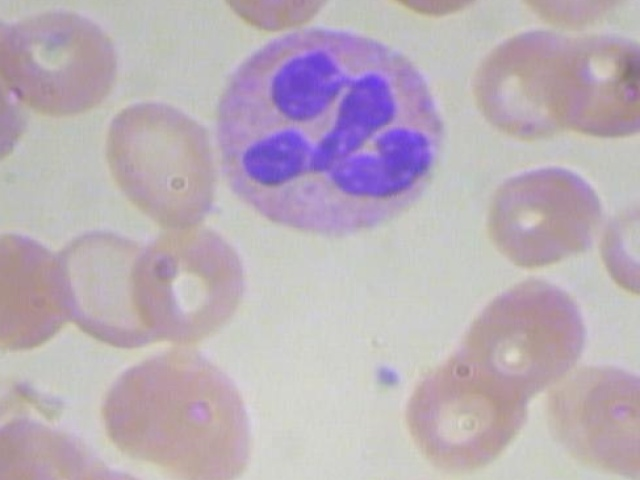Platelets: (364, 357, 407, 397)
RBC: (90, 94, 224, 236), (399, 339, 542, 470), (451, 273, 593, 403), (130, 211, 253, 344), (469, 19, 596, 142), (481, 152, 608, 275), (0, 0, 123, 117), (547, 19, 640, 142), (0, 227, 85, 350), (0, 408, 121, 480), (575, 369, 640, 480), (595, 172, 640, 295)
WBC: (193, 23, 450, 250)
